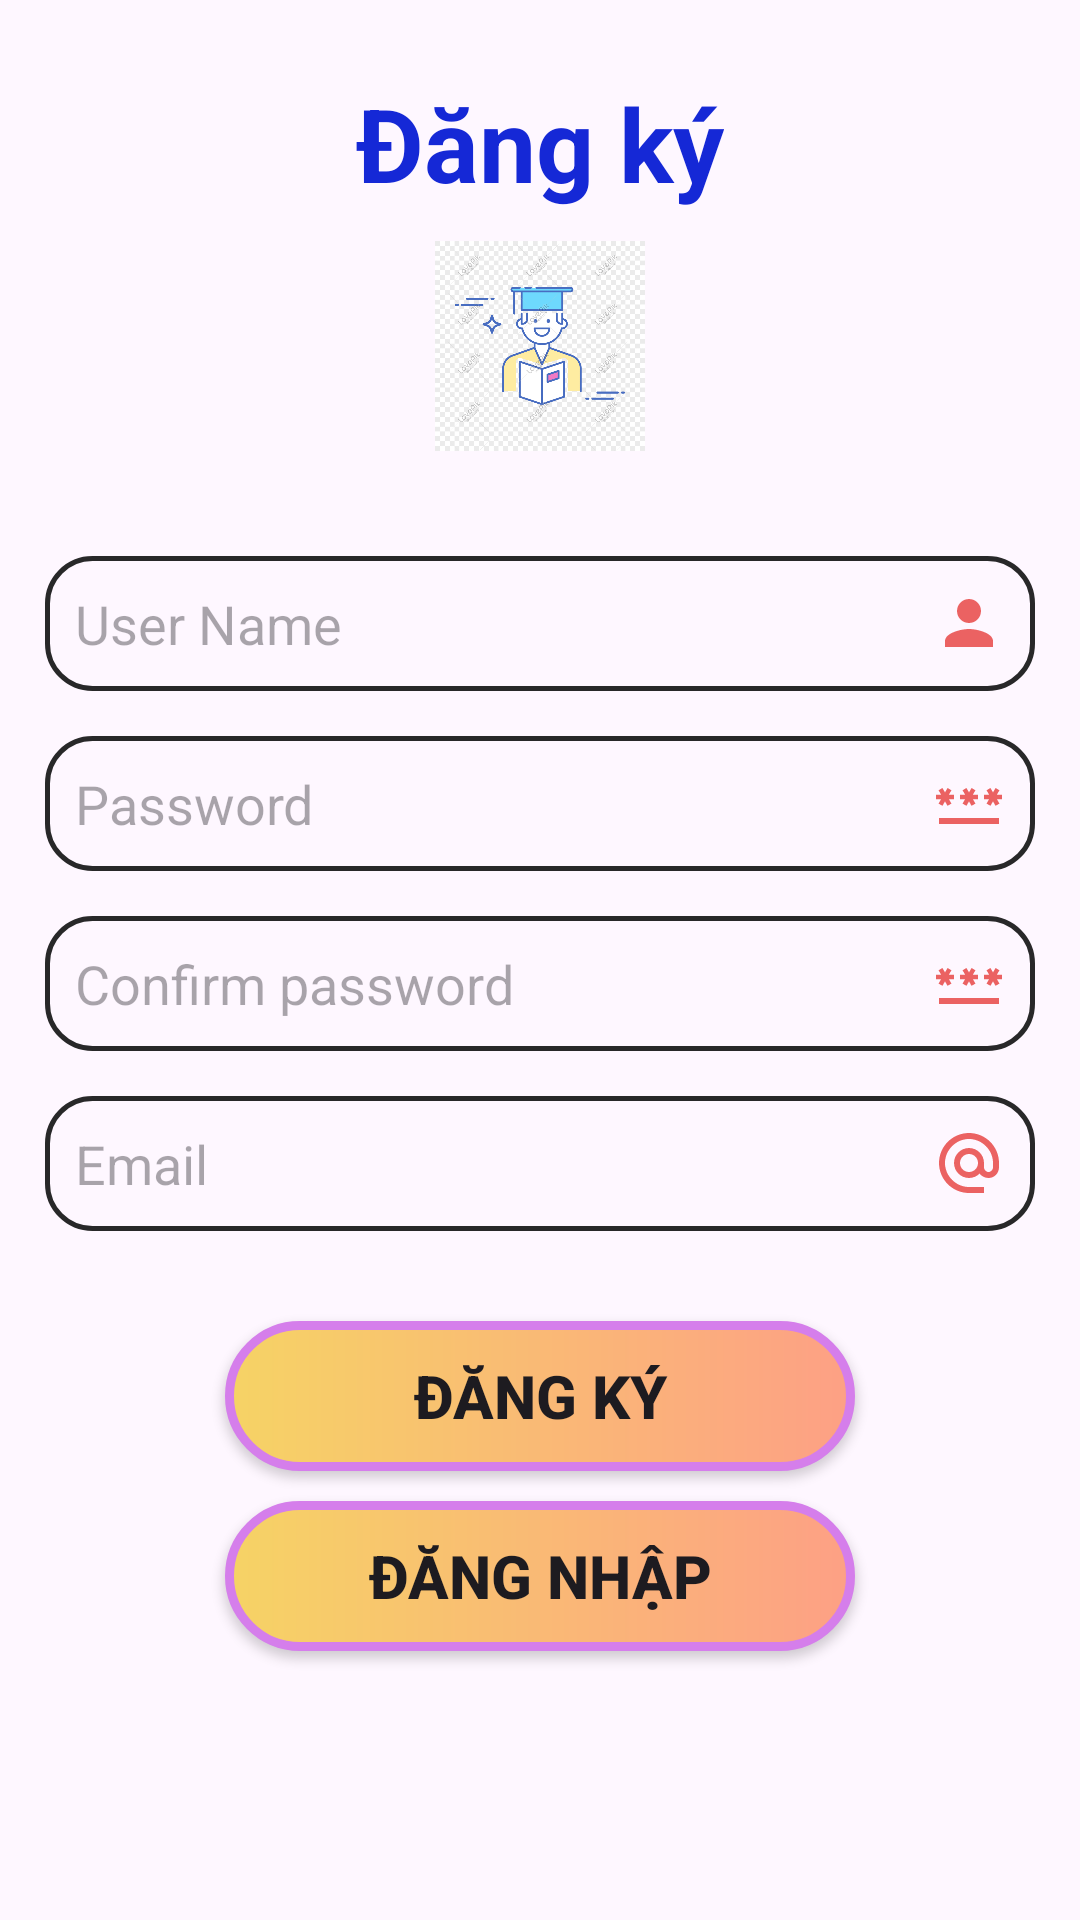

Point at icon controls on the screen. Image size 1080w x 1920h, points as (x,y).
anh login: (536,347)
